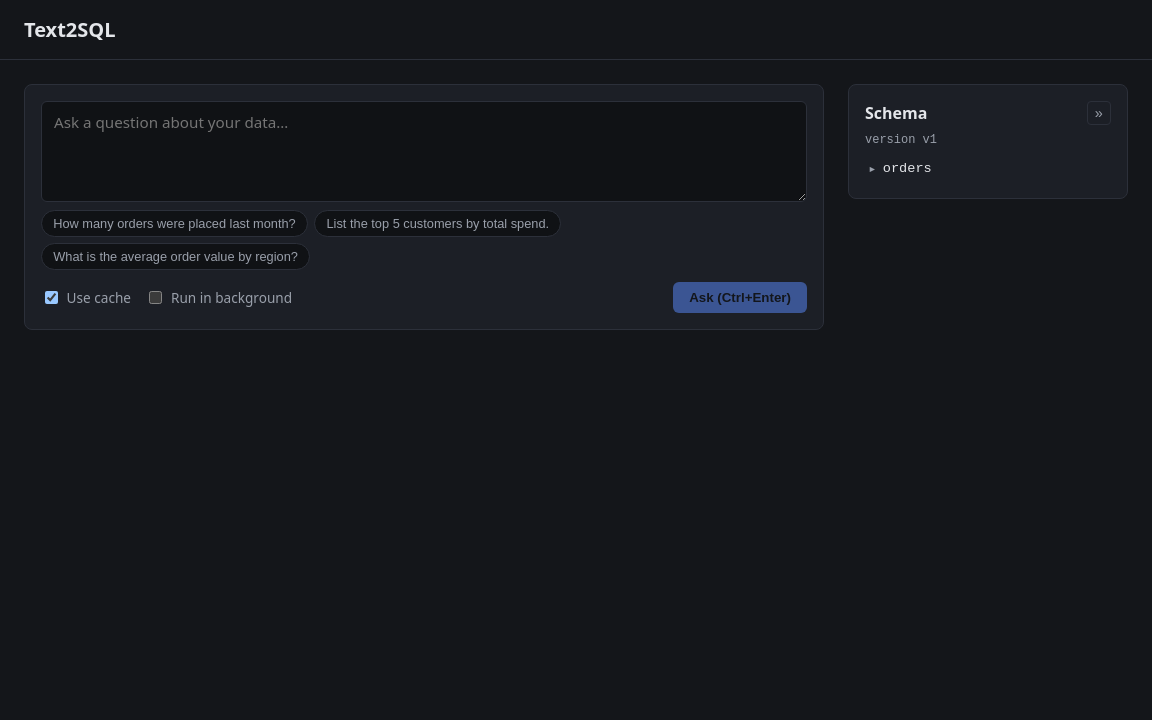
App › submits a question and renders the SQL and results
Type "How many orders are there?" into the text box with placeholder "Ask a question about your data…".
click(424, 152); type("How many orders are there?")  # box [41,101,807,202]
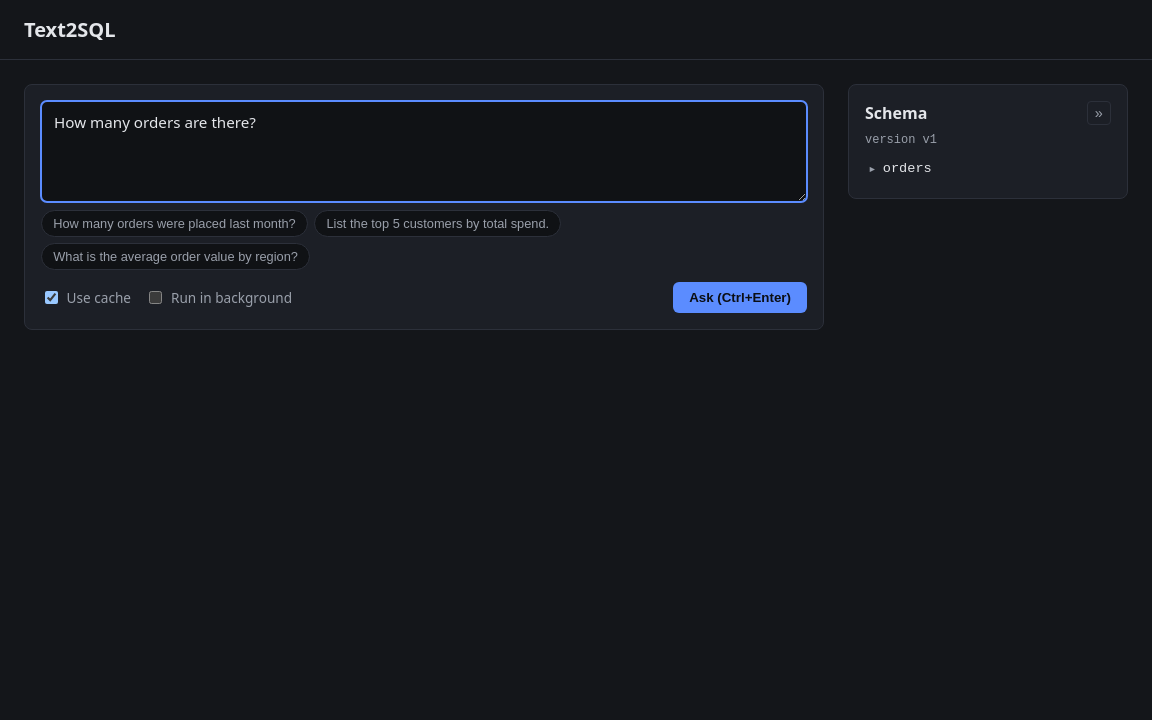
Click the button "Ask (Ctrl+Enter)".
click(740, 297)  # box [673,282,807,313]
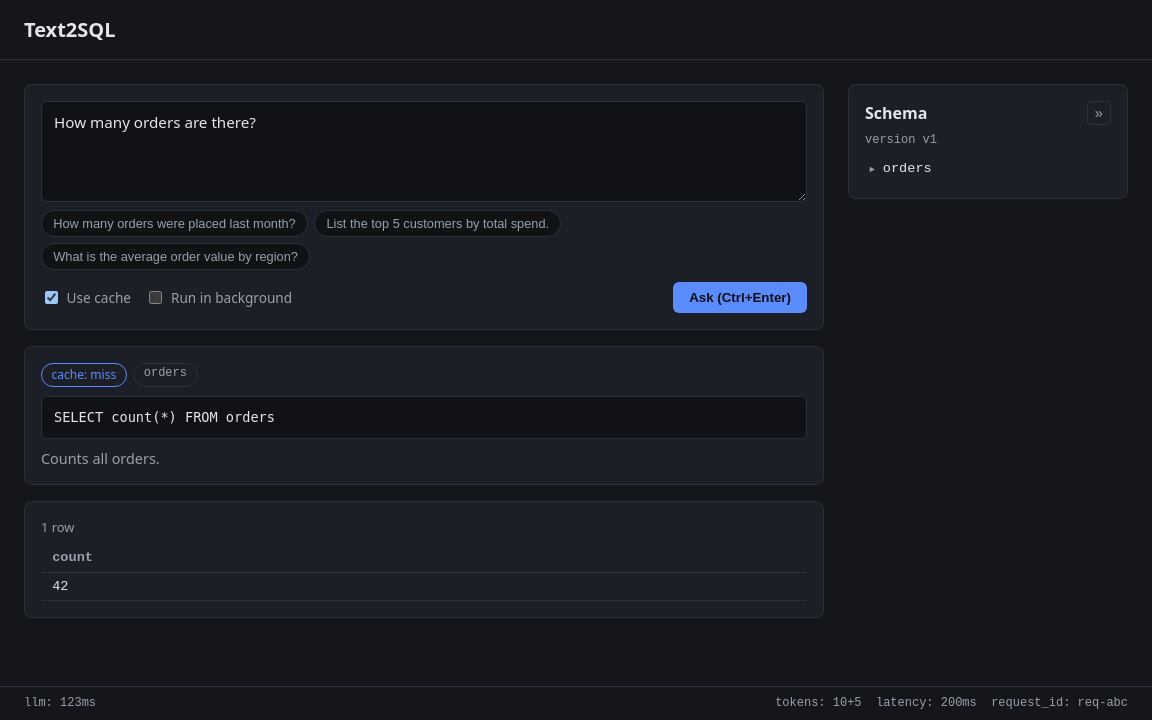
Result: the text "SELECT count(*) FROM orders" is shown at [54,409,275,425]
Result: the text "42" is shown at [41,572,807,601]
Result: the text "Counts all orders." is shown at [41,449,160,468]
